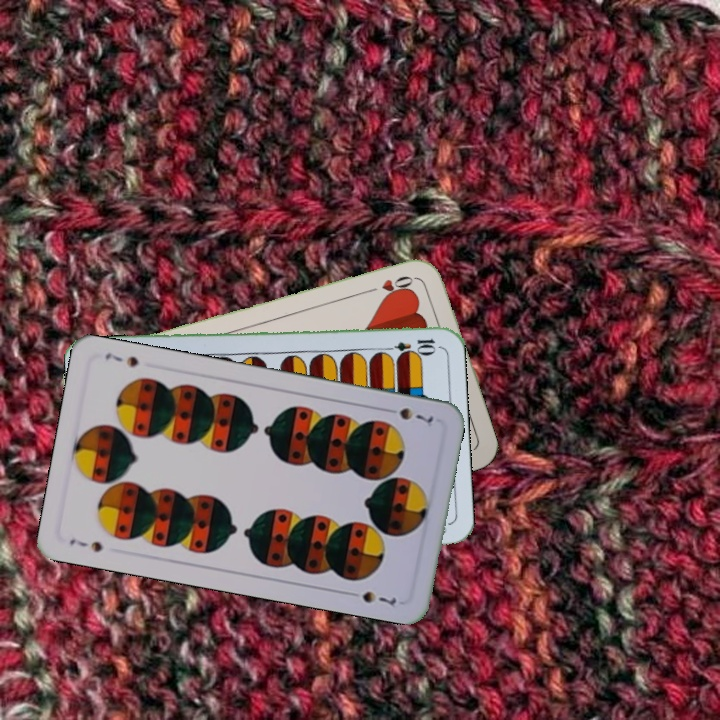E10: (379, 335, 438, 355)
HO: (361, 271, 419, 296)
S7: (380, 403, 437, 427), (65, 534, 105, 555)
